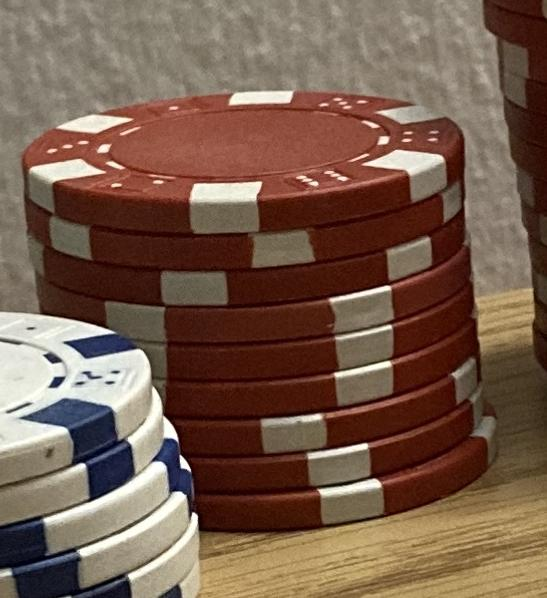Chip: (1, 1, 547, 598)
